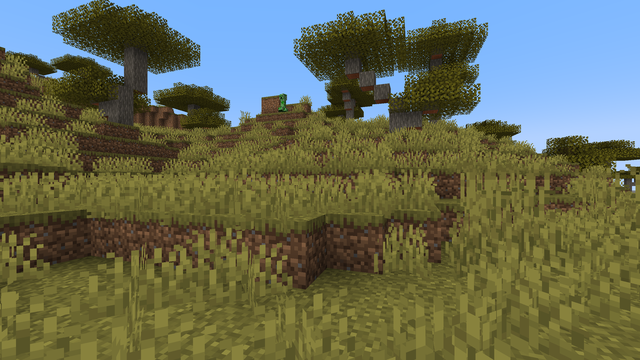creepers: (278, 92, 286, 112)
